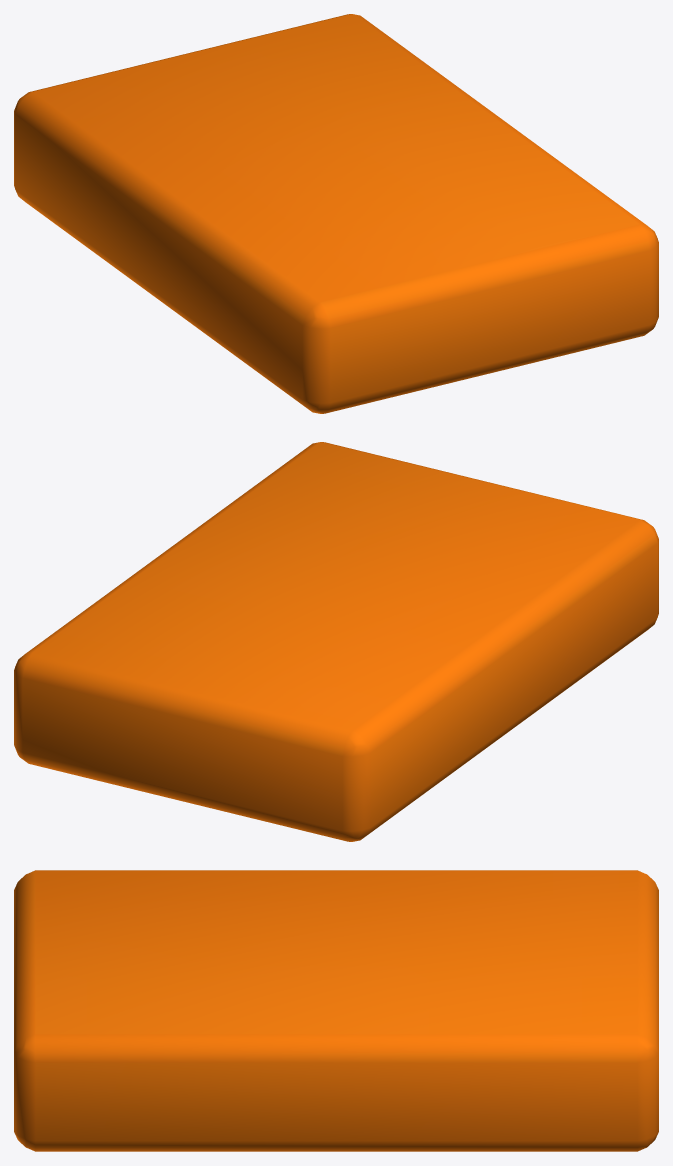
The model's file is CuboidBlockYellow.fbx.
The picture shows the model from 3 angles, top to bottom: view 1: azimuth 30°, elevation 25°; view 2: azimuth 150°, elevation 25°; view 3: azimuth 270°, elevation 25°; orthographic projection. The views are drawn at different scales.
Parts seen in each view (by area): view 1: CuboidBlock; view 2: CuboidBlock; view 3: CuboidBlock.
Part boxes in pixels (x1,y1,x2,y2): CuboidBlock: (14, 14, 658, 413); CuboidBlock: (14, 442, 658, 841); CuboidBlock: (14, 870, 658, 1151).
Bounding box in the file's own units: 4 × 1.2 × 6.
